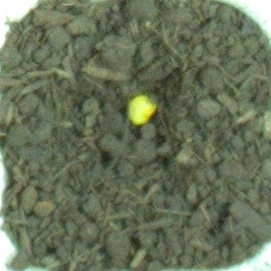chilli seed: (125, 94, 158, 126)
